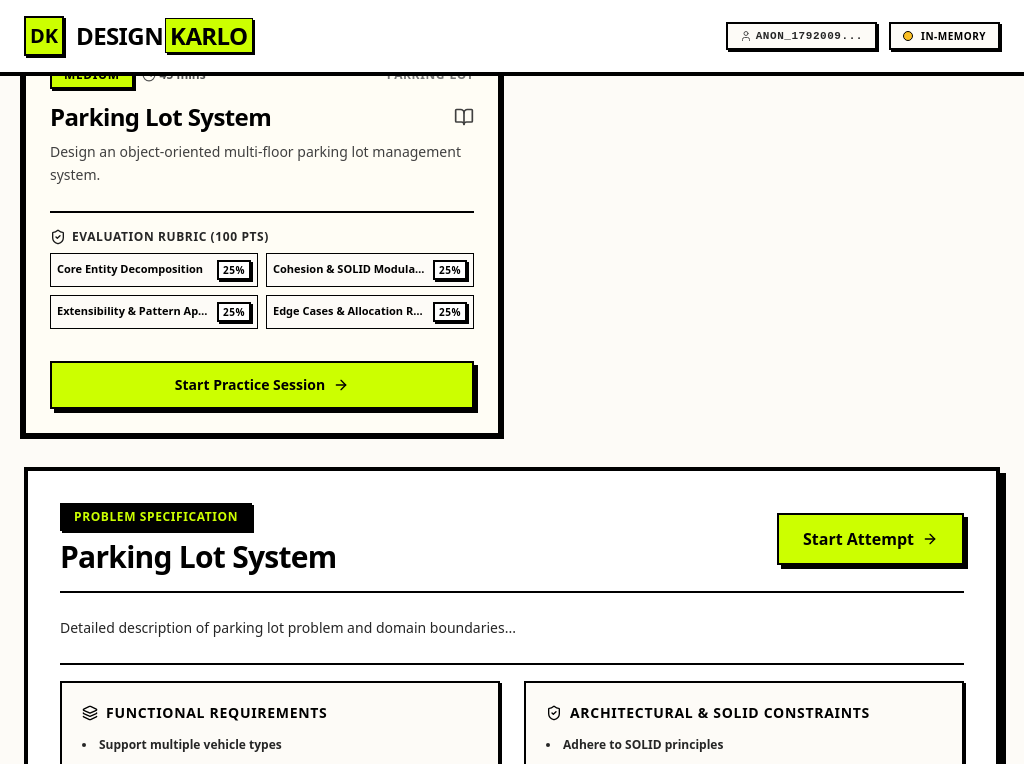
Test: DesignKarlo Frontend App › 1. "Start Practice Session" opens the problem briefing screen without opening the editor
(page scrolled)
Step 1. Click the button "Start Practice Session" → (262, 384), box [50,360,474,408]
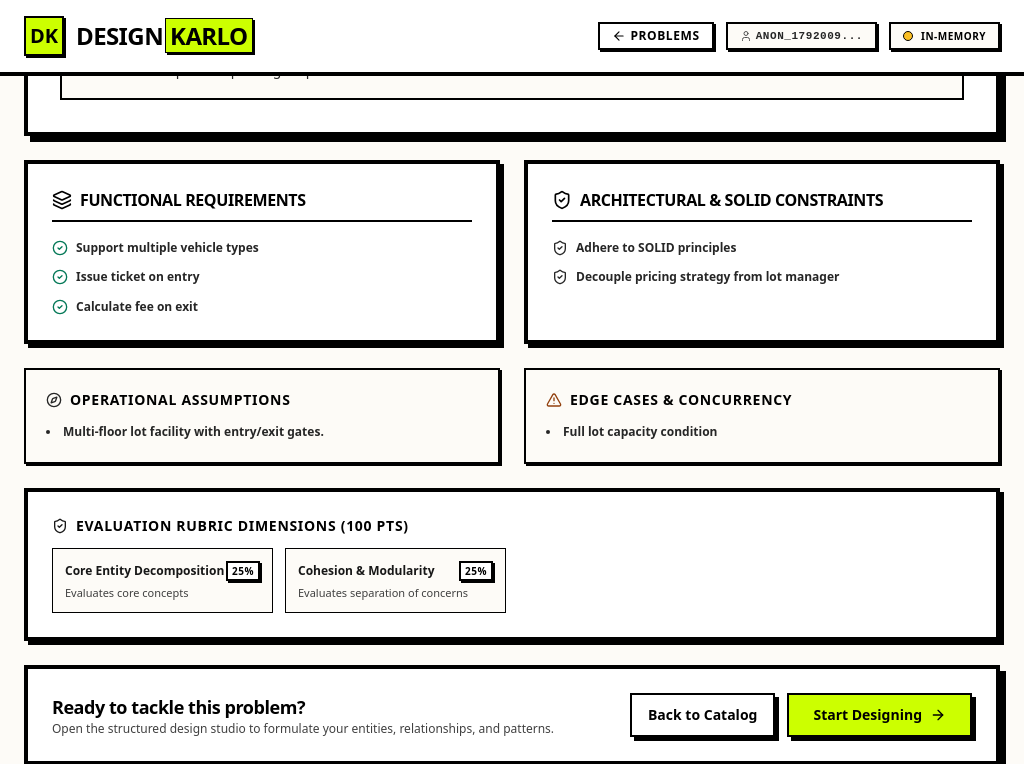
Now the heading "Operational Assumptions" is shown, box [46,390,290,409]
Now the heading "Edge Cases & Concurrency" is shown, box [546,390,792,409]
Now the button "Start Designing" is shown, box [787,693,972,737]
